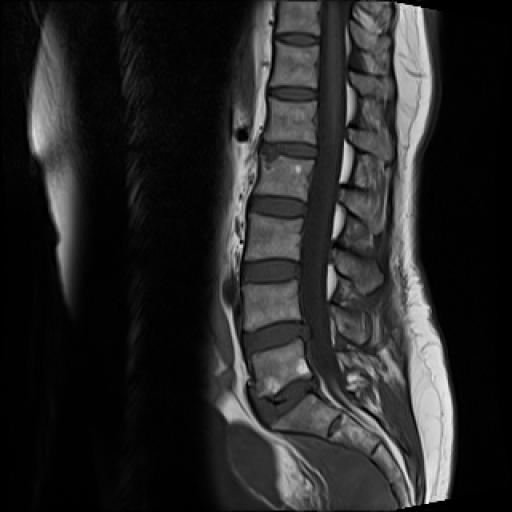L1: (266, 98, 316, 144)
L2: (256, 156, 314, 200)
L3: (246, 216, 302, 261)
L4: (243, 280, 301, 330)
L5: (252, 339, 312, 396)
S1: (271, 393, 341, 438)
